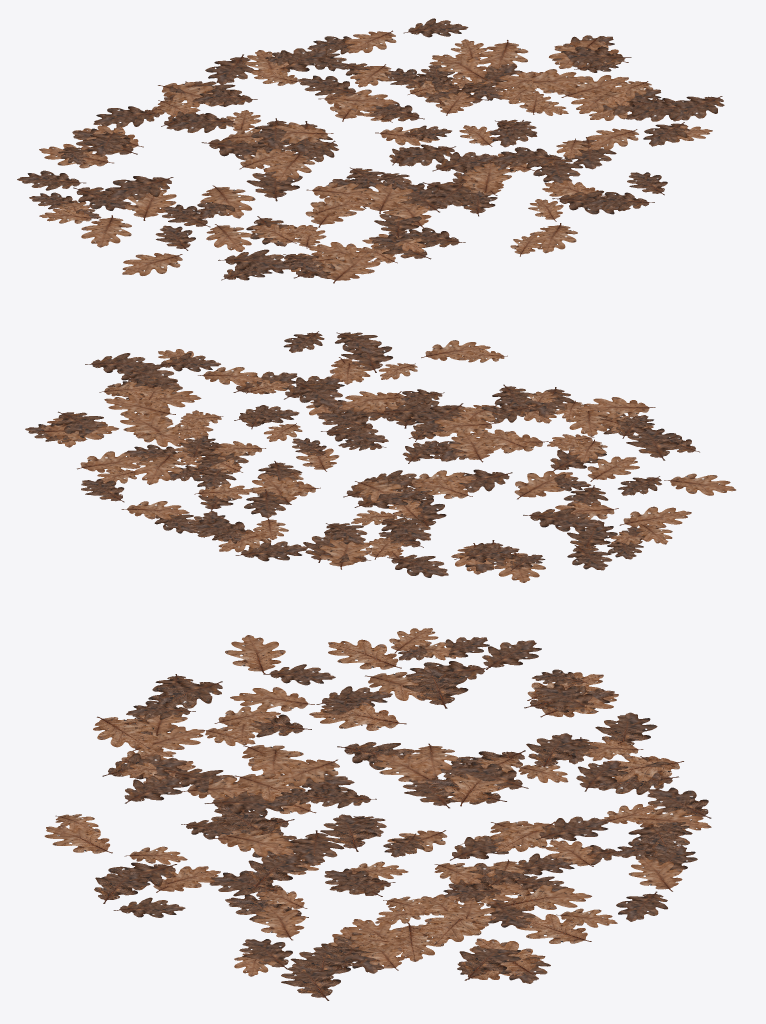
File: Oak_LeafLitter_Patch_01_LOD1.fbx
The picture shows the model from 3 angles, top to bottom: view 1: azimuth 30°, elevation 25°; view 2: azimuth 150°, elevation 25°; view 3: azimuth 270°, elevation 25°; orthographic projection. The views are drawn at different scales.
Visible parts, largest first — view 1: Oak_LeafLitter_Patch_01_LOD1_Mesh; view 2: Oak_LeafLitter_Patch_01_LOD1_Mesh; view 3: Oak_LeafLitter_Patch_01_LOD1_Mesh.
Boxes of the visible parts, x1,y1,x2,y2 form: Oak_LeafLitter_Patch_01_LOD1_Mesh: (17,18,724,283); Oak_LeafLitter_Patch_01_LOD1_Mesh: (25,331,735,582); Oak_LeafLitter_Patch_01_LOD1_Mesh: (44,628,711,1000).
Size of the model in its own units: 146 by 2.07 by 118.
1 material, 1 textured.
